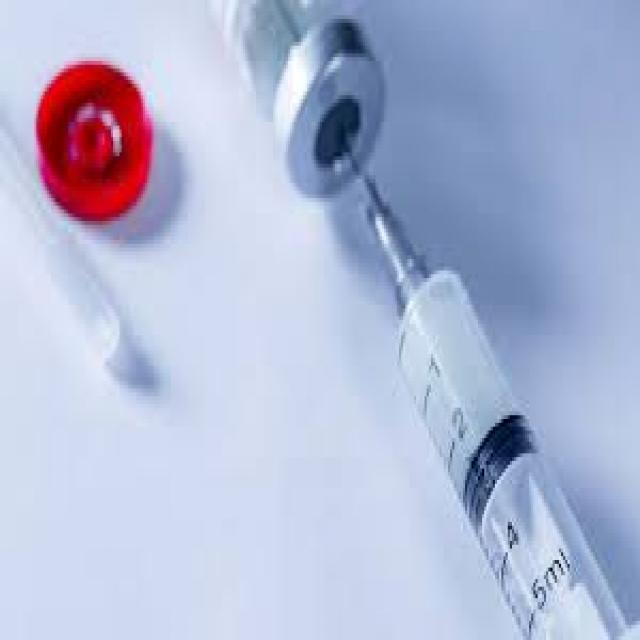syringe: (254, 41, 596, 623)
